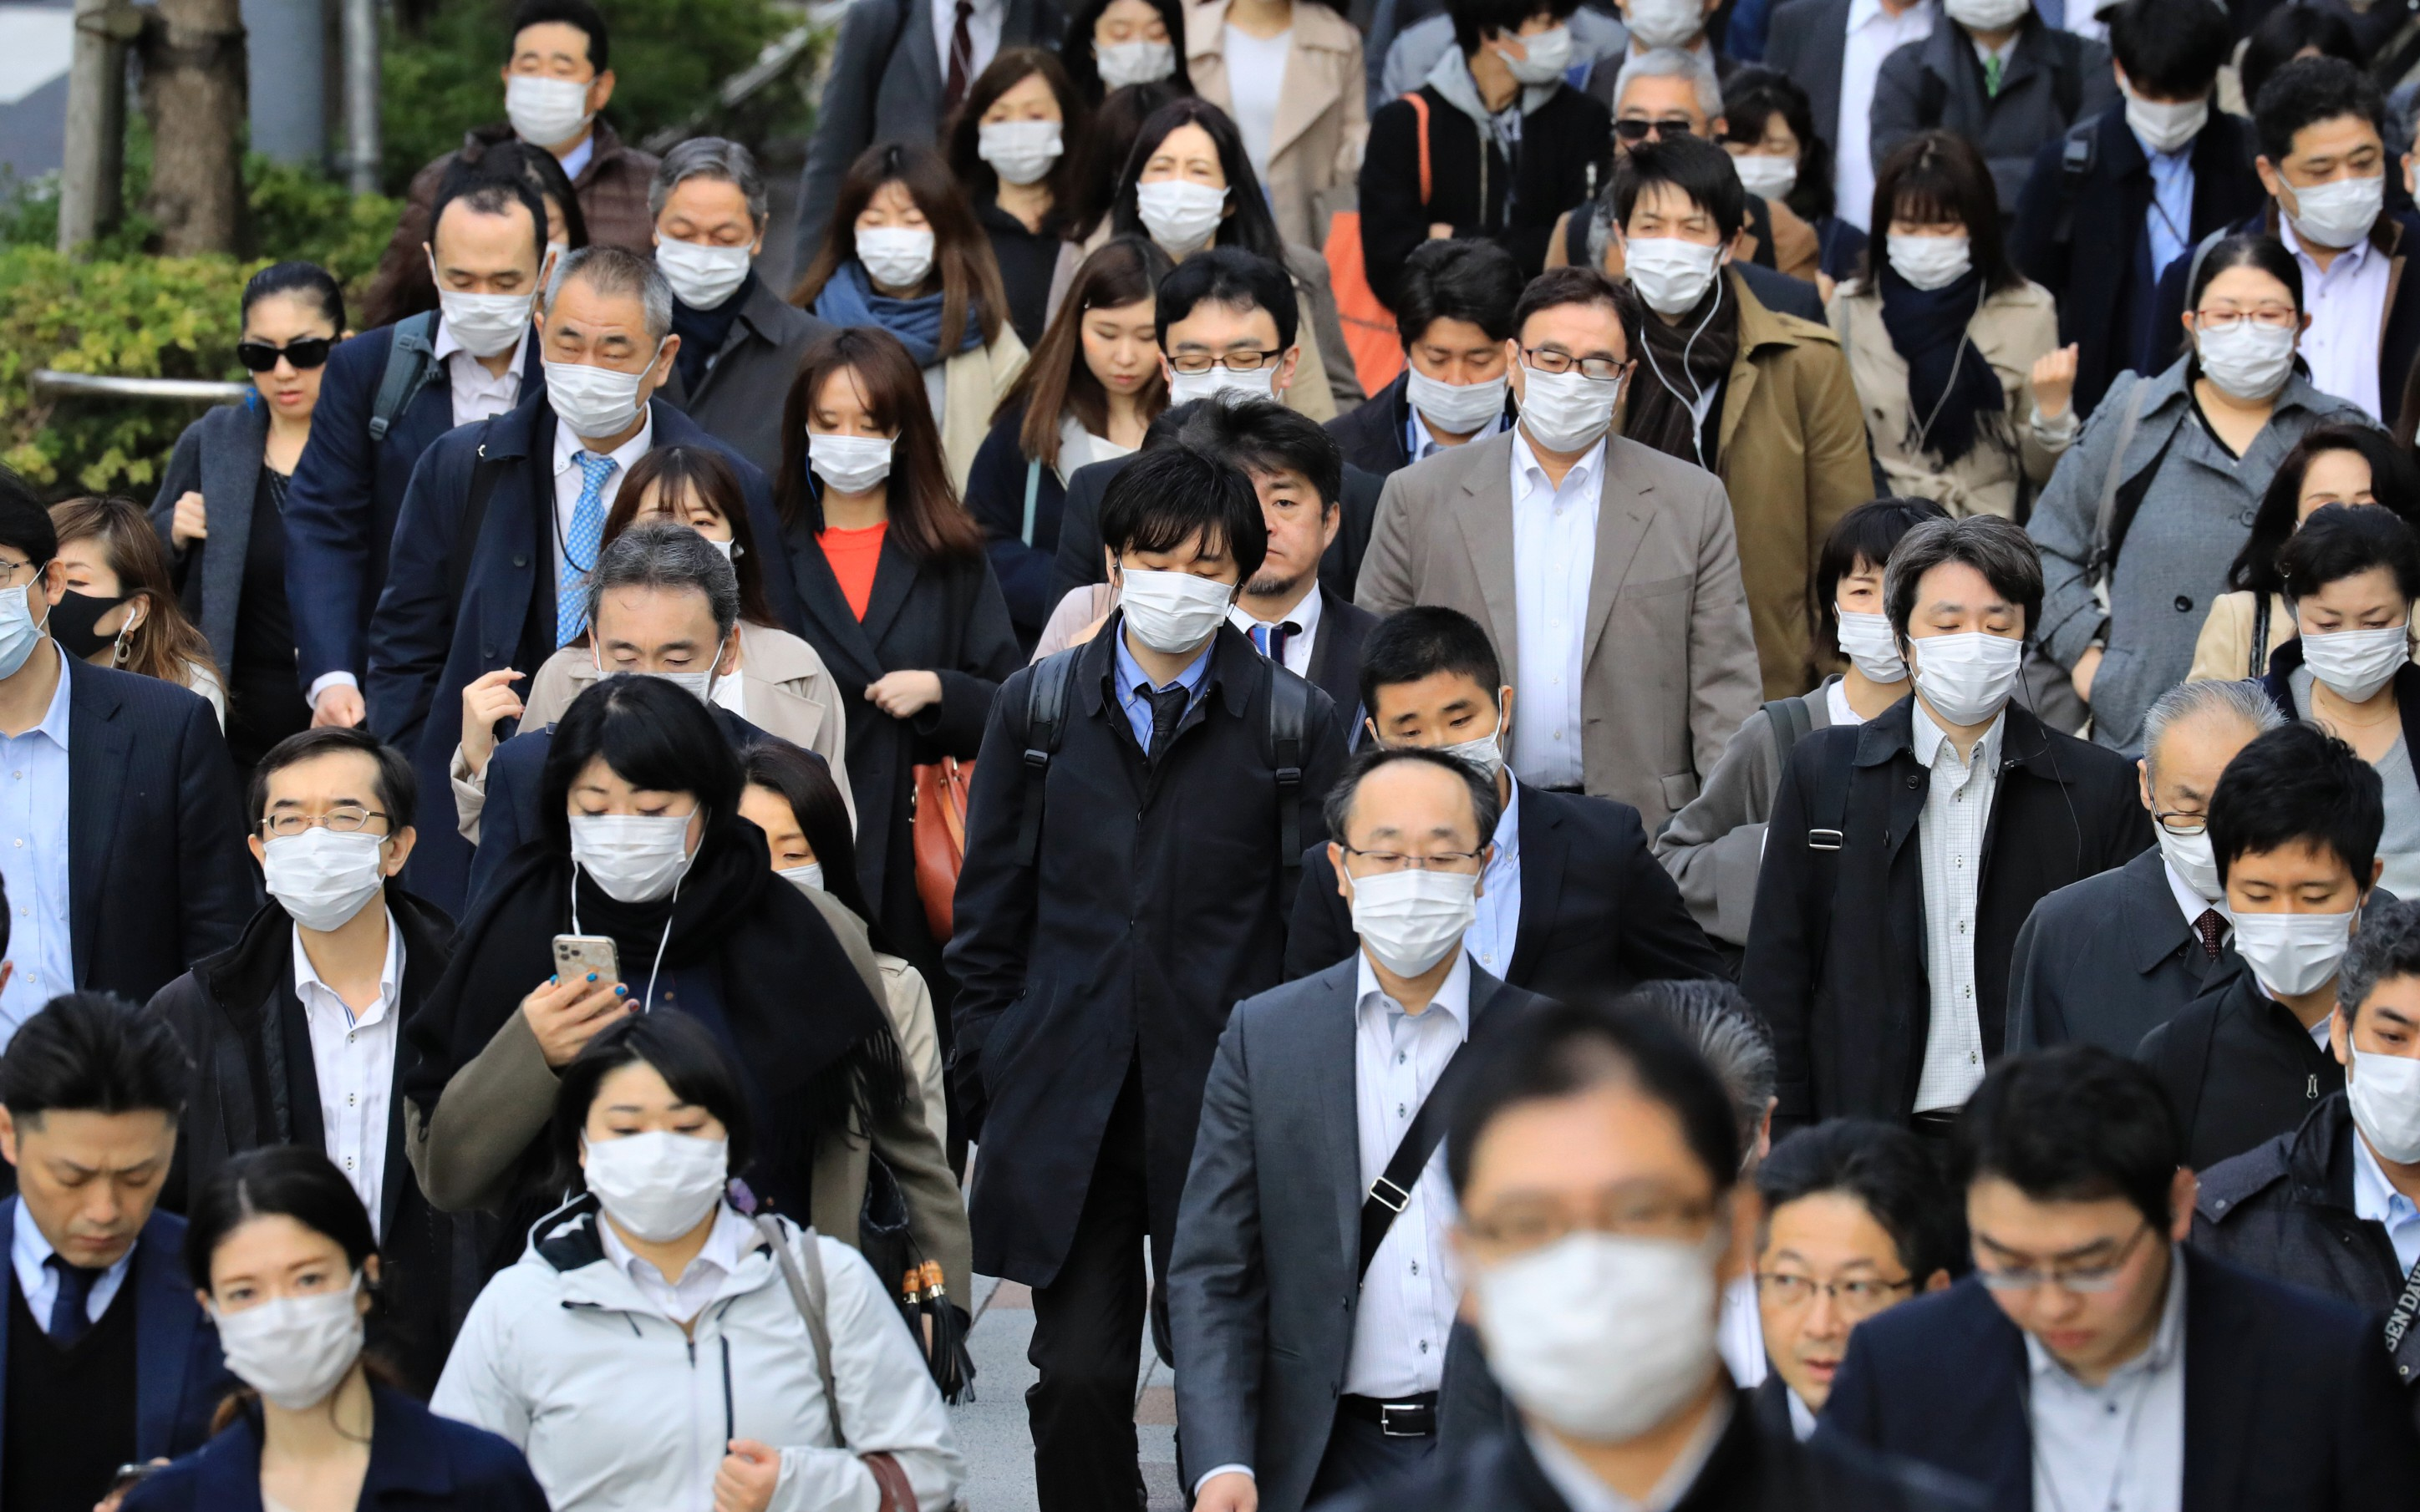with_mask: (1463, 1110, 1702, 1416), (201, 1239, 362, 1394), (1335, 783, 1462, 965), (650, 149, 770, 307), (557, 749, 694, 885), (2212, 851, 2347, 987), (492, 12, 613, 158), (1401, 295, 1510, 449), (1122, 100, 1233, 253), (2273, 102, 2392, 243), (532, 310, 666, 429), (969, 50, 1073, 193), (262, 784, 379, 910), (1619, 174, 1723, 314), (2198, 267, 2299, 407), (602, 1093, 719, 1215), (2351, 965, 2420, 1162), (1913, 589, 2013, 721), (856, 165, 944, 295), (1121, 544, 1216, 662), (432, 233, 526, 353), (1522, 337, 1607, 442), (813, 388, 898, 492), (1892, 196, 1975, 292)
without_mask: (1965, 1144, 2177, 1383), (1747, 1155, 1918, 1398), (15, 1077, 168, 1278), (240, 302, 344, 428), (1080, 277, 1164, 402)
